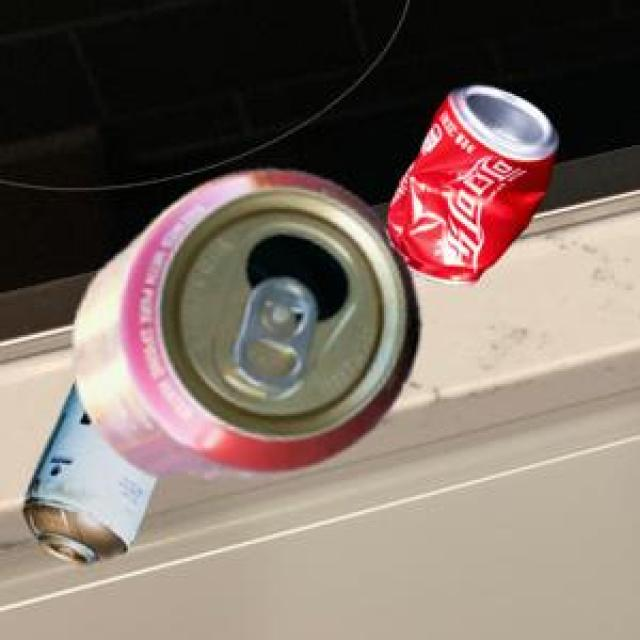logam: (69, 167, 415, 477), (383, 82, 556, 283), (20, 379, 155, 562)
